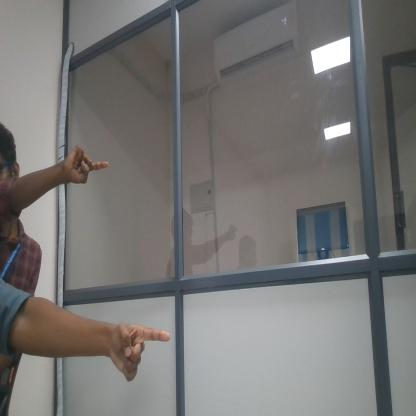Left: (114, 321, 168, 385), (64, 140, 110, 192)
